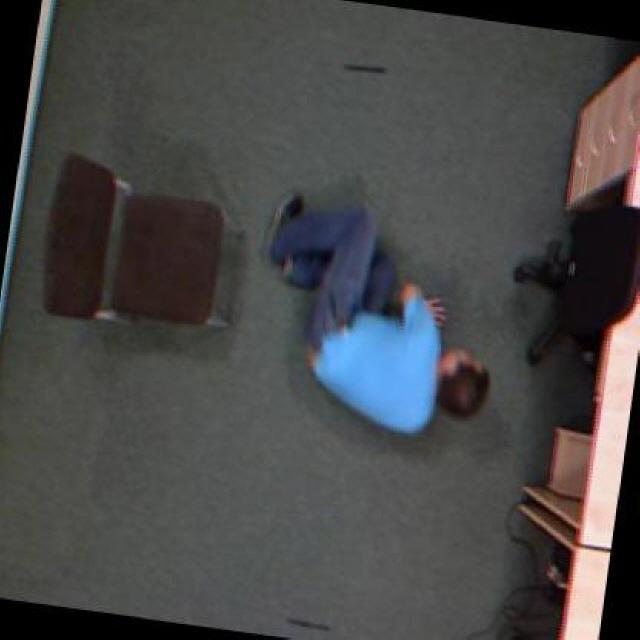Fall: (270, 196, 491, 434)
